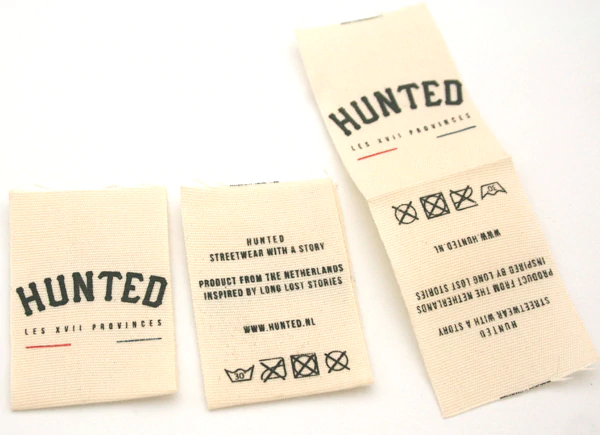do_not_dry_clean: (391, 201, 420, 225), (324, 348, 350, 373)
do_not_iron: (260, 356, 288, 383)
